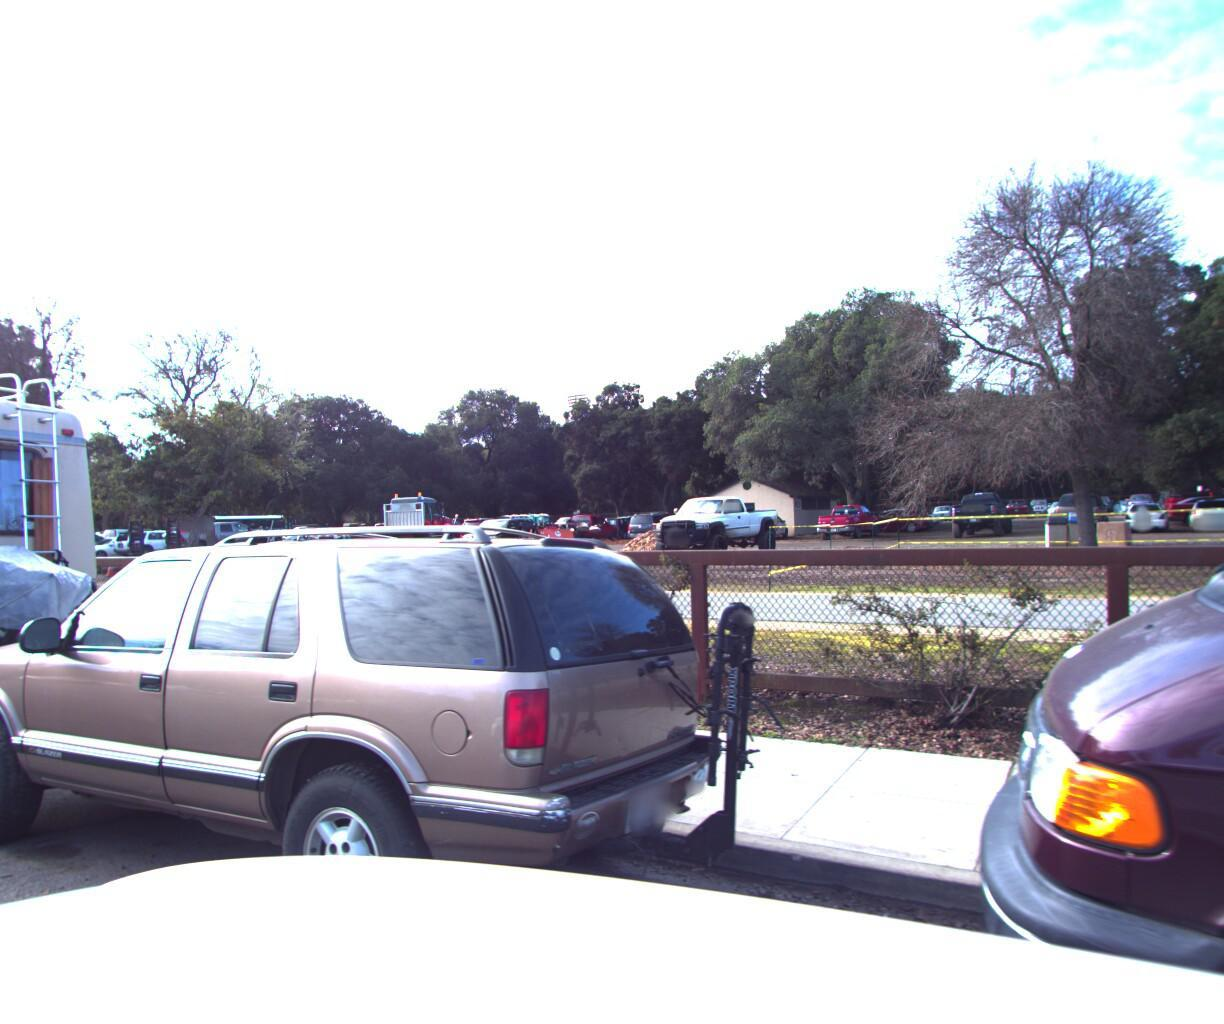car: (0, 514, 751, 1024)
other_vehicle: (0, 282, 181, 835)
